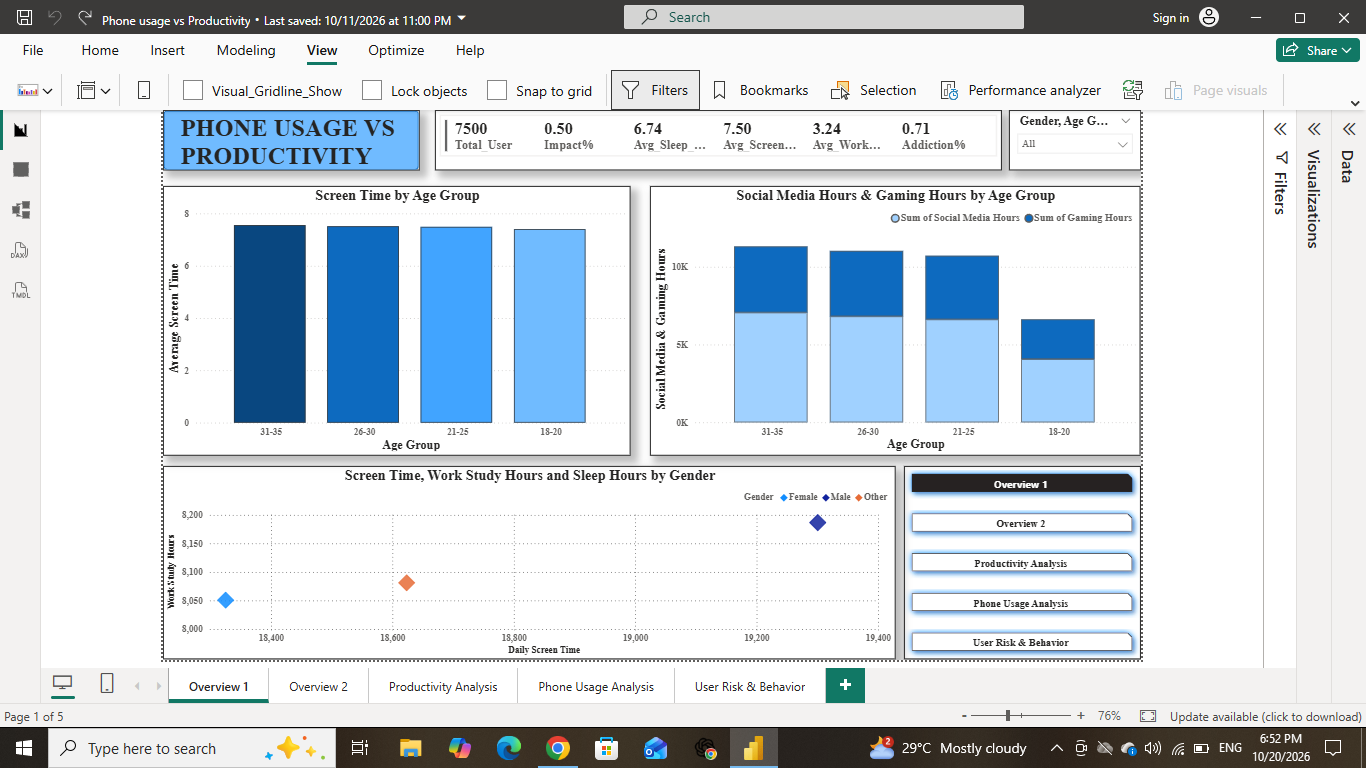

What the dashboard file says about the page in this screenshot:
{"tool":"powerbi","page":{"name":"Overview 1","canvas":[1280,720],"ordinal":0},"visuals":[{"type":"shape","title":"P","box":[0,0,335.5,79.2],"z":0},{"type":"textbox","box":[18.7,0,316.8,90.7],"z":1000},{"type":"scatterChart","title":"Screen Time, Work Study Hours and Sleep Hours by Gender","fields":{"X":["Sum(Smartphone_Usage_And_Addiction_Analysis.Daily Screen Time)"],"Y":["Sum(Smartphone_Usage_And_Addiction_Analysis.Work Study Hours)"],"Series":["Smartphone_Usage_And_Addiction_Analysis.Gender"],"Size":["Sum(Smartphone_Usage_And_Addiction_Analysis.Sleep Hours)"]},"box":[0,466.6,959,253.4],"z":2000},{"type":"clusteredColumnChart","title":"Screen Time by Age Group","fields":{"Category":["Smartphone_Usage_And_Addiction_Analysis.Age Group"],"Y":["Smartphone_Usage_And_Addiction_Analysis.Avg_Screen_Time"]},"box":[0,99.4,612,352.8],"z":3000},{"type":"columnChart","title":"Social Media Hours & Gaming Hours by Age Group","fields":{"Category":["Smartphone_Usage_And_Addiction_Analysis.Age Group"],"Y":["Sum(Smartphone_Usage_And_Addiction_Analysis.Social Media Hours)","Sum(Smartphone_Usage_And_Addiction_Analysis.Gaming Hours)"]},"box":[637.9,99.4,642.2,352.8],"z":4000},{"type":"multiRowCard","fields":{"Values":["Smartphone_Usage_And_Addiction_Analysis.Total_User","Smartphone_Usage_And_Addiction_Analysis.Impact%","Smartphone_Usage_And_Addiction_Analysis.Avg_Sleep_Hr","Smartphone_Usage_And_Addiction_Analysis.Avg_Screen_Time","Smartphone_Usage_And_Addiction_Analysis.Avg_Work_Study_Hr","Smartphone_Usage_And_Addiction_Analysis.Addiction%"]},"box":[355.7,0,741.6,79.2],"z":5000},{"type":"slicer","fields":{"Values":["Smartphone_Usage_And_Addiction_Analysis.Gender","Smartphone_Usage_And_Addiction_Analysis.Age Group","Smartphone_Usage_And_Addiction_Analysis.Stress Level","Smartphone_Usage_And_Addiction_Analysis.Addiction Level","Smartphone_Usage_And_Addiction_Analysis.Academic Work Impact"]},"box":[1107.4,0,172.8,79.2],"z":6000},{"type":"pageNavigator","box":[970.6,466.6,309.6,253.4],"z":7000}]}

Visuals, with their boxes on the page's 1280x720 design canvas (x1, y1, x2, y2). These are canvas units, not pixel positions in the 1366x768 screenshot, which may show the page scaled, cropped or inside an application window:
"P" shape: bbox=[0, 0, 336, 79]
textbox: bbox=[19, 0, 336, 91]
"Screen Time, Work Study Hours and Sleep Hours by Gender" scatterChart: bbox=[0, 467, 959, 720]
"Screen Time by Age Group" clusteredColumnChart: bbox=[0, 99, 612, 452]
"Social Media Hours & Gaming Hours by Age Group" columnChart: bbox=[638, 99, 1280, 452]
multiRowCard - Smartphone_Usage_And_Addiction_Analysis.Total_User x Smartphone_Usage_And_Addiction_Analysis.Impact%: bbox=[356, 0, 1097, 79]
slicer - Smartphone_Usage_And_Addiction_Analysis.Gender x Smartphone_Usage_And_Addiction_Analysis.Age Group: bbox=[1107, 0, 1280, 79]
pageNavigator: bbox=[971, 467, 1280, 720]
